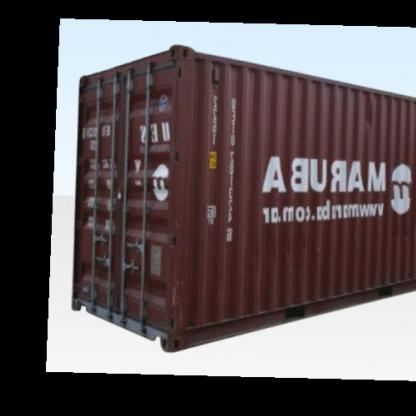Damage: (248, 210, 321, 272), (164, 254, 193, 325), (358, 94, 376, 127)
